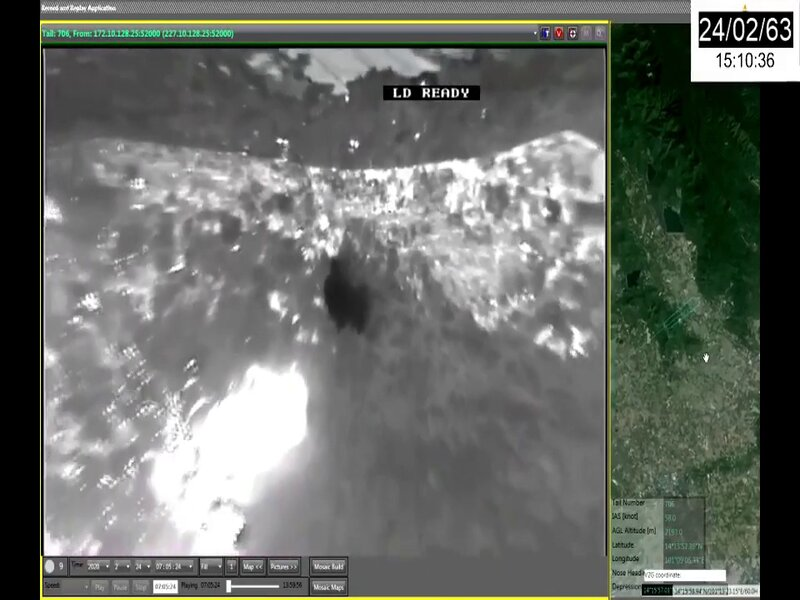Fire: (140, 359, 311, 556)
